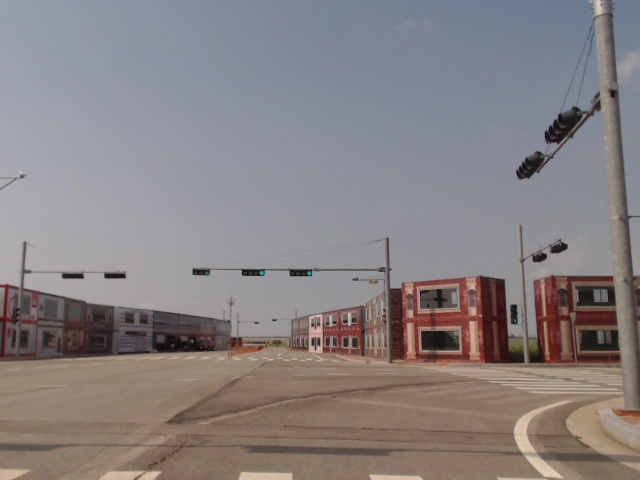straight_green_4: (241, 269, 266, 277), (290, 269, 313, 276)
